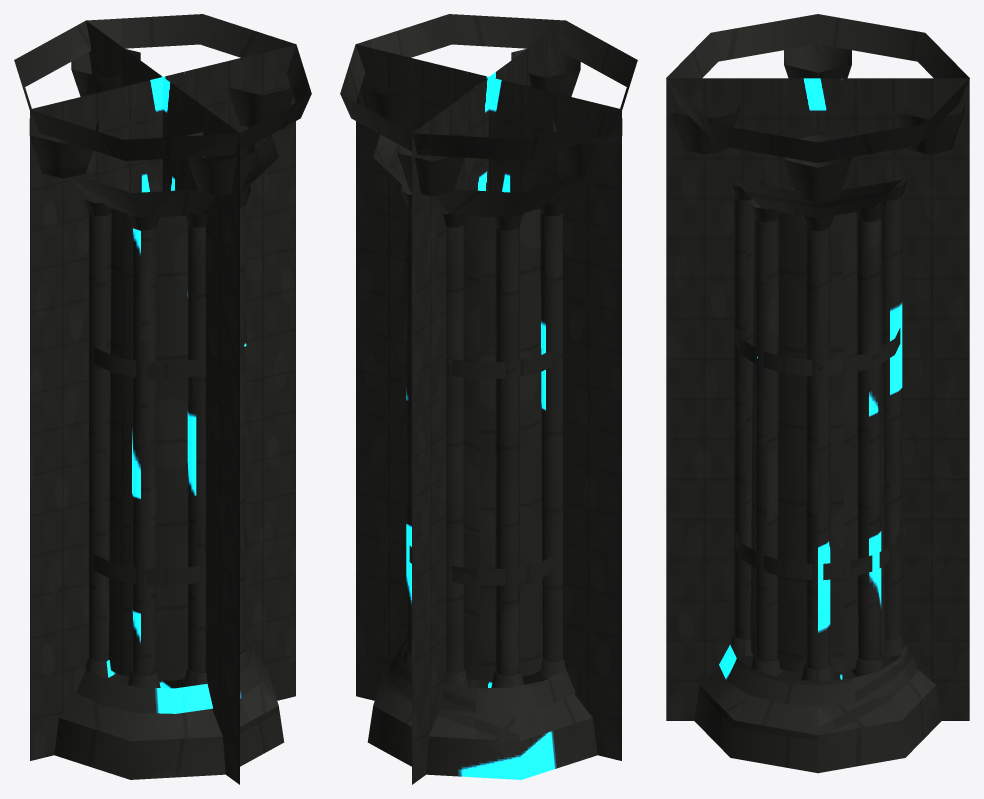
Rendered from aion2_gothic_dungeon_pillar.glb.
3 renders of one model, left to right at view 1: azimuth 30°, elevation 25°; view 2: azimuth 150°, elevation 25°; view 3: azimuth 270°, elevation 25°, orthographic.
Visible parts, largest first — view 1: aion2_gothic_dungeon_pillar_LOD0, aion2_gothic_dungeon_pillar_Impostor; view 2: aion2_gothic_dungeon_pillar_LOD0, aion2_gothic_dungeon_pillar_Impostor; view 3: aion2_gothic_dungeon_pillar_LOD0, aion2_gothic_dungeon_pillar_Impostor.
Part boxes in pixels (x1,y1,x2,y2): aion2_gothic_dungeon_pillar_LOD0: [14, 14, 311, 779]; aion2_gothic_dungeon_pillar_Impostor: [30, 21, 295, 784]; aion2_gothic_dungeon_pillar_LOD0: [340, 14, 637, 779]; aion2_gothic_dungeon_pillar_Impostor: [356, 21, 621, 784]; aion2_gothic_dungeon_pillar_LOD0: [666, 14, 969, 773]; aion2_gothic_dungeon_pillar_Impostor: [666, 78, 969, 720].
Size of what is drawn, in the model's own units: 2.7 by 6.3 by 2.7.
1 material, 1 textured.
